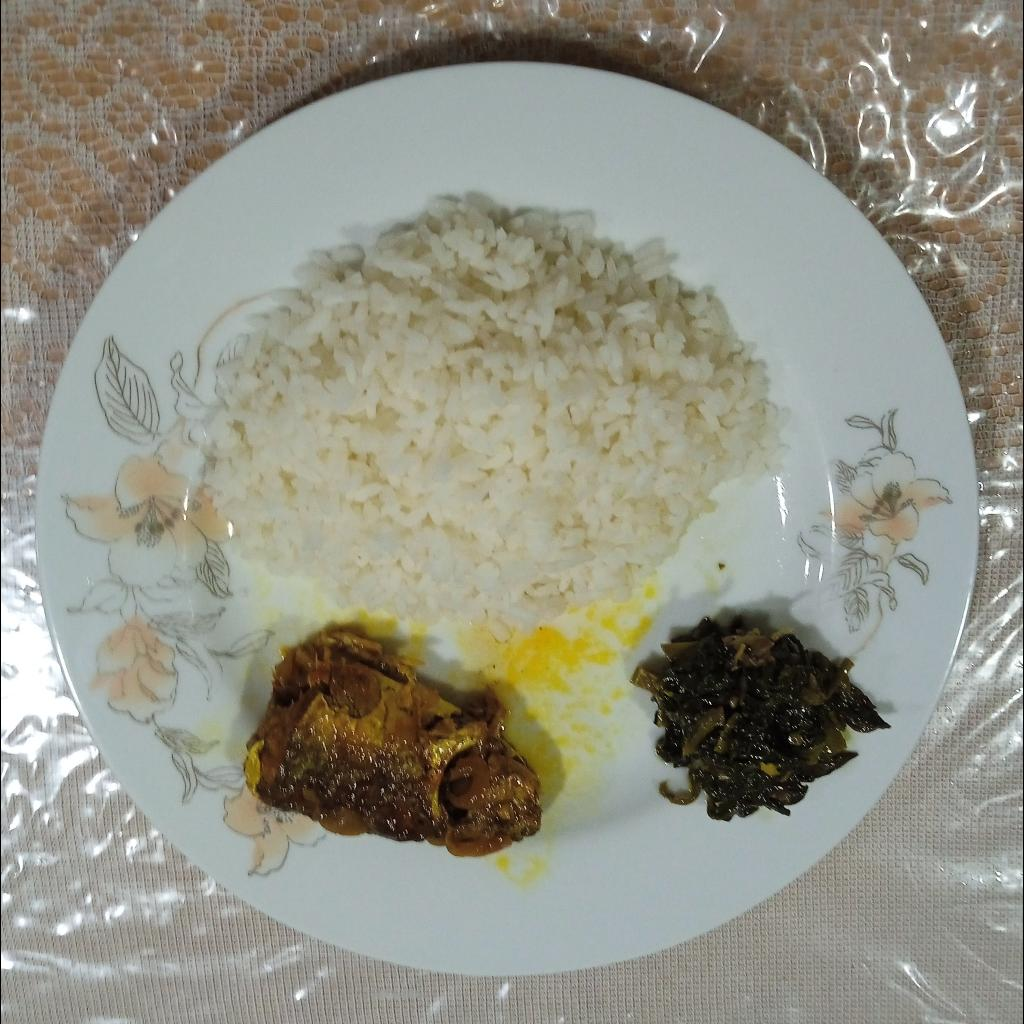fish: (245, 630, 545, 859)
rice: (199, 195, 791, 646)
shak: (629, 611, 889, 823)
